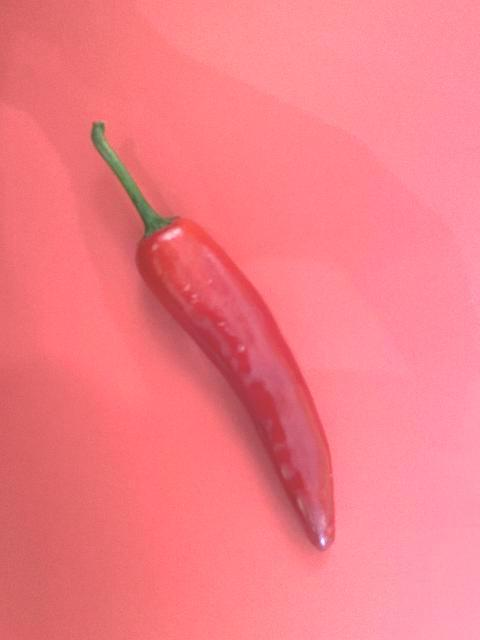chilli: (89, 118, 339, 552)
